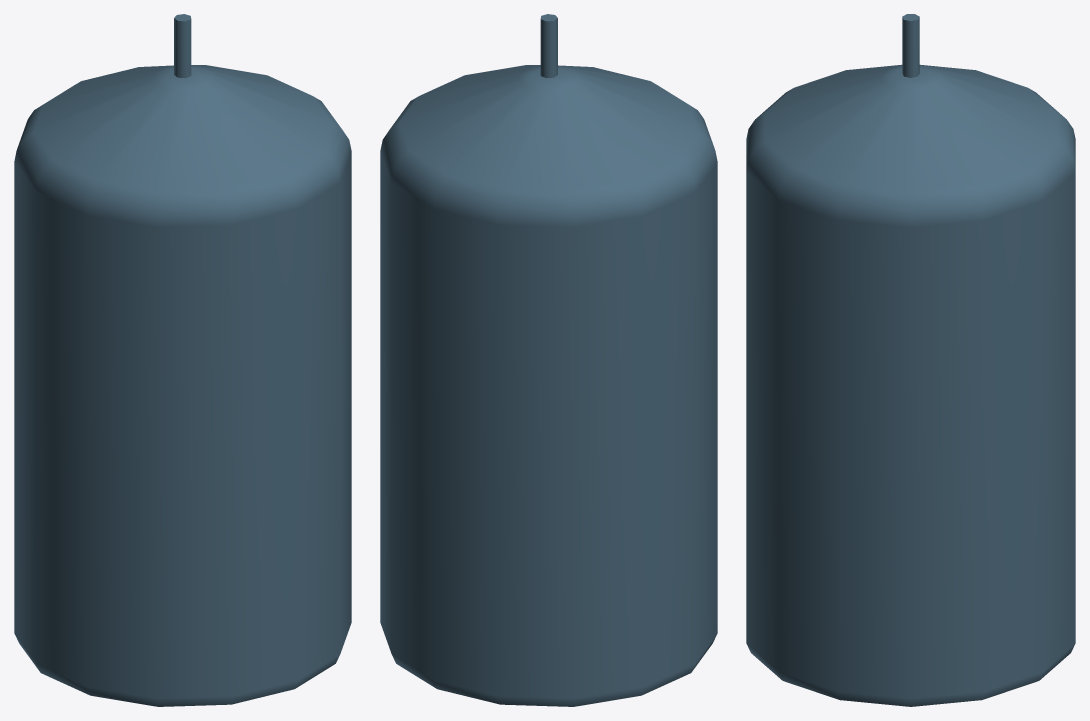
Rendered from Candle.fbx.
3 renders of one model, left to right at view 1: azimuth 30°, elevation 25°; view 2: azimuth 150°, elevation 25°; view 3: azimuth 270°, elevation 25°, orthographic.
Parts seen in each view (by area): view 1: Candle; view 2: Candle; view 3: Candle.
Boxes of the visible parts, bbox=[...] form: Candle: bbox=[14, 14, 351, 706]; Candle: bbox=[380, 14, 717, 706]; Candle: bbox=[746, 14, 1075, 706].
Bounding box in the file's own units: 0.0892 × 0.1817 × 0.0869.
